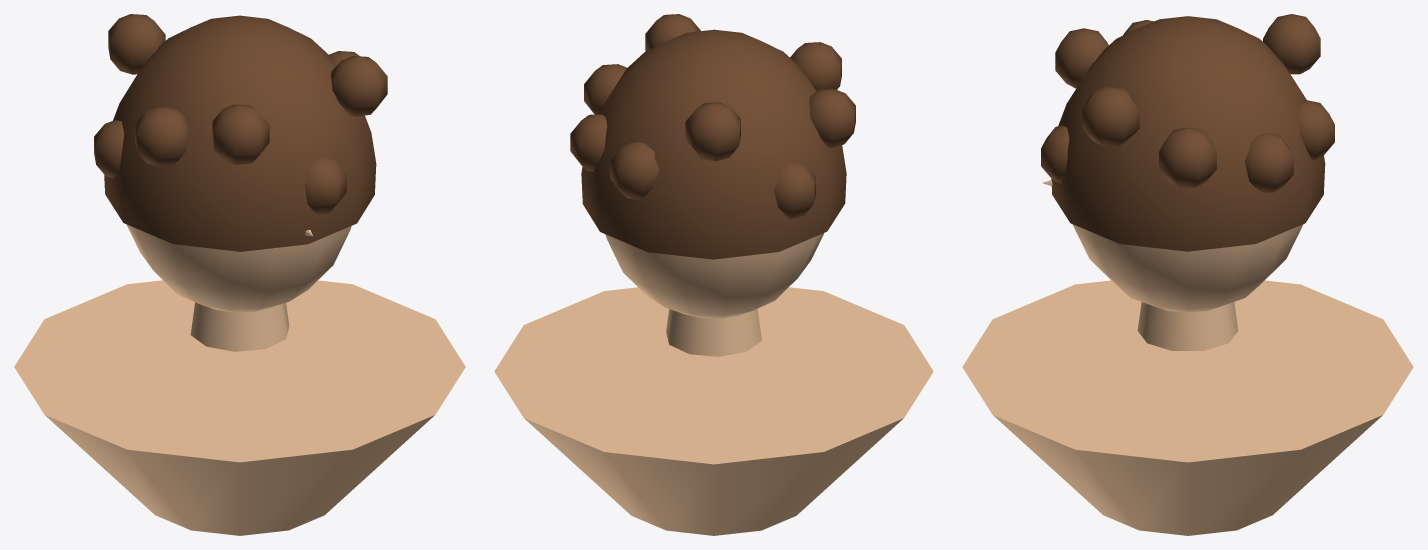
The model's file is raw_002.glb.
The picture shows the model from 3 angles, left to right: view 1: azimuth 30°, elevation 25°; view 2: azimuth 150°, elevation 25°; view 3: azimuth 270°, elevation 25°; orthographic projection. The views are drawn at different scales.
Size of the model in its own units: 1.88 by 2.15 by 1.88.
